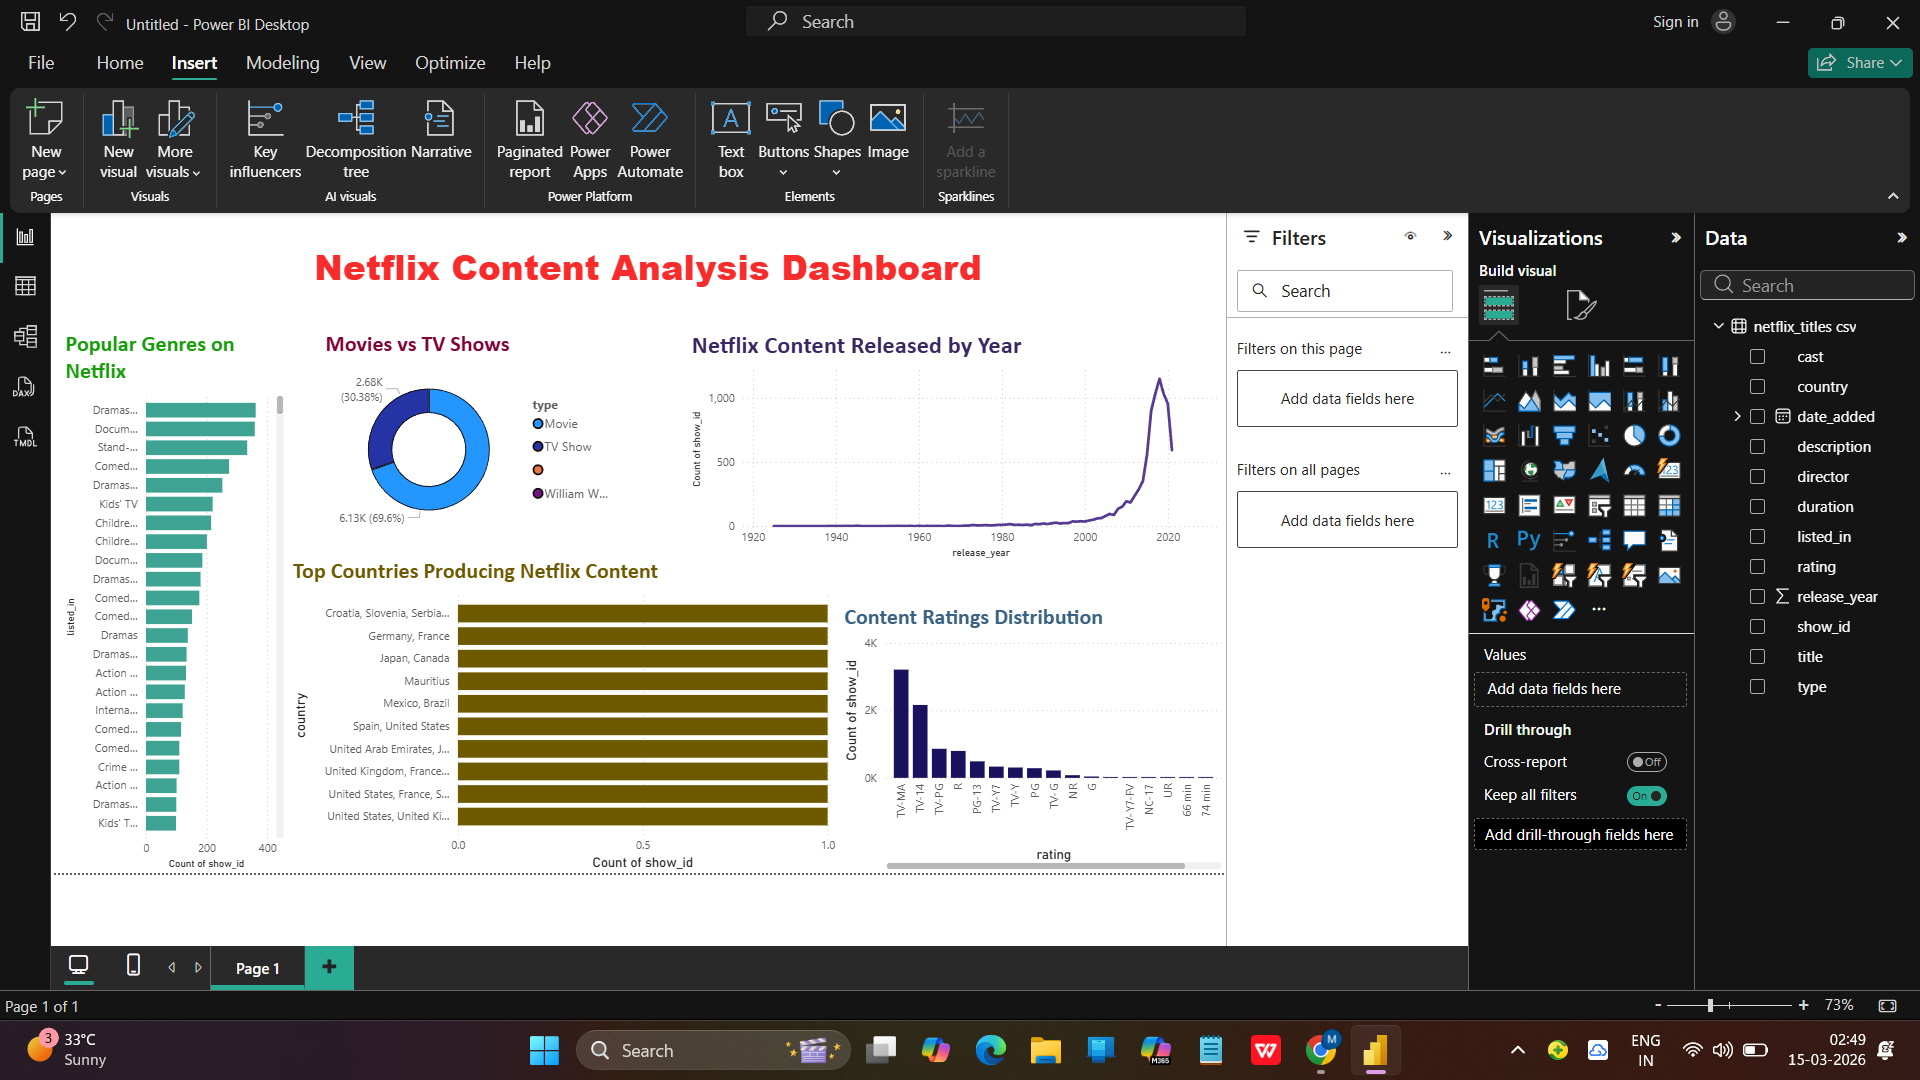

This screenshot's page, from the dashboard's own definition file:
{"tool":"powerbi","page":{"name":"Page 1","canvas":[1280,720],"ordinal":0},"visuals":[{"type":"clusteredBarChart","title":"Top Countries Producing Netflix Content","fields":{"Category":["netflix_titles csv.country"],"Y":["CountNonNull(netflix_titles csv.show_id)"]},"box":[258.8,374.5,600.6,345.9],"z":0},{"type":"donutChart","title":"Movies vs TV Shows","fields":{"Category":["netflix_titles csv.type"],"Y":["CountNonNull(netflix_titles csv.show_id)"]},"box":[294.2,126.7,332.3,232.9],"z":1},{"type":"lineChart","title":"Netflix Content Released by Year","fields":{"Category":["netflix_titles csv.release_year"],"Y":["CountNonNull(netflix_titles csv.show_id)"]},"box":[693.3,126.7,587,254.7],"z":2},{"type":"clusteredBarChart","title":"Popular Genres on Netflix","fields":{"Category":["netflix_titles csv.listed_in"],"Y":["CountNonNull(netflix_titles csv.show_id)"]},"box":[10.9,126.7,247.9,593.8],"z":3},{"type":"columnChart","title":"Content Ratings Distribution","fields":{"Category":["netflix_titles csv.rating"],"Y":["CountNonNull(netflix_titles csv.show_id)"]},"box":[859.4,424.9,420.9,295.6],"z":4},{"type":"textbox","box":[281.9,27.2,742.3,74.9],"z":5}]}

Visuals, with their boxes on the page's 1280x720 design canvas (x1, y1, x2, y2). These are canvas units, not pixel positions in the 1920x1080 screenshot, which may show the page scaled, cropped or inside an application window:
"Top Countries Producing Netflix Content" clusteredBarChart: pyautogui.locateOnScreen(259, 374, 859, 720)
"Movies vs TV Shows" donutChart: pyautogui.locateOnScreen(294, 127, 626, 360)
"Netflix Content Released by Year" lineChart: pyautogui.locateOnScreen(693, 127, 1280, 381)
"Popular Genres on Netflix" clusteredBarChart: pyautogui.locateOnScreen(11, 127, 259, 720)
"Content Ratings Distribution" columnChart: pyautogui.locateOnScreen(859, 425, 1280, 720)
textbox: pyautogui.locateOnScreen(282, 27, 1024, 102)
